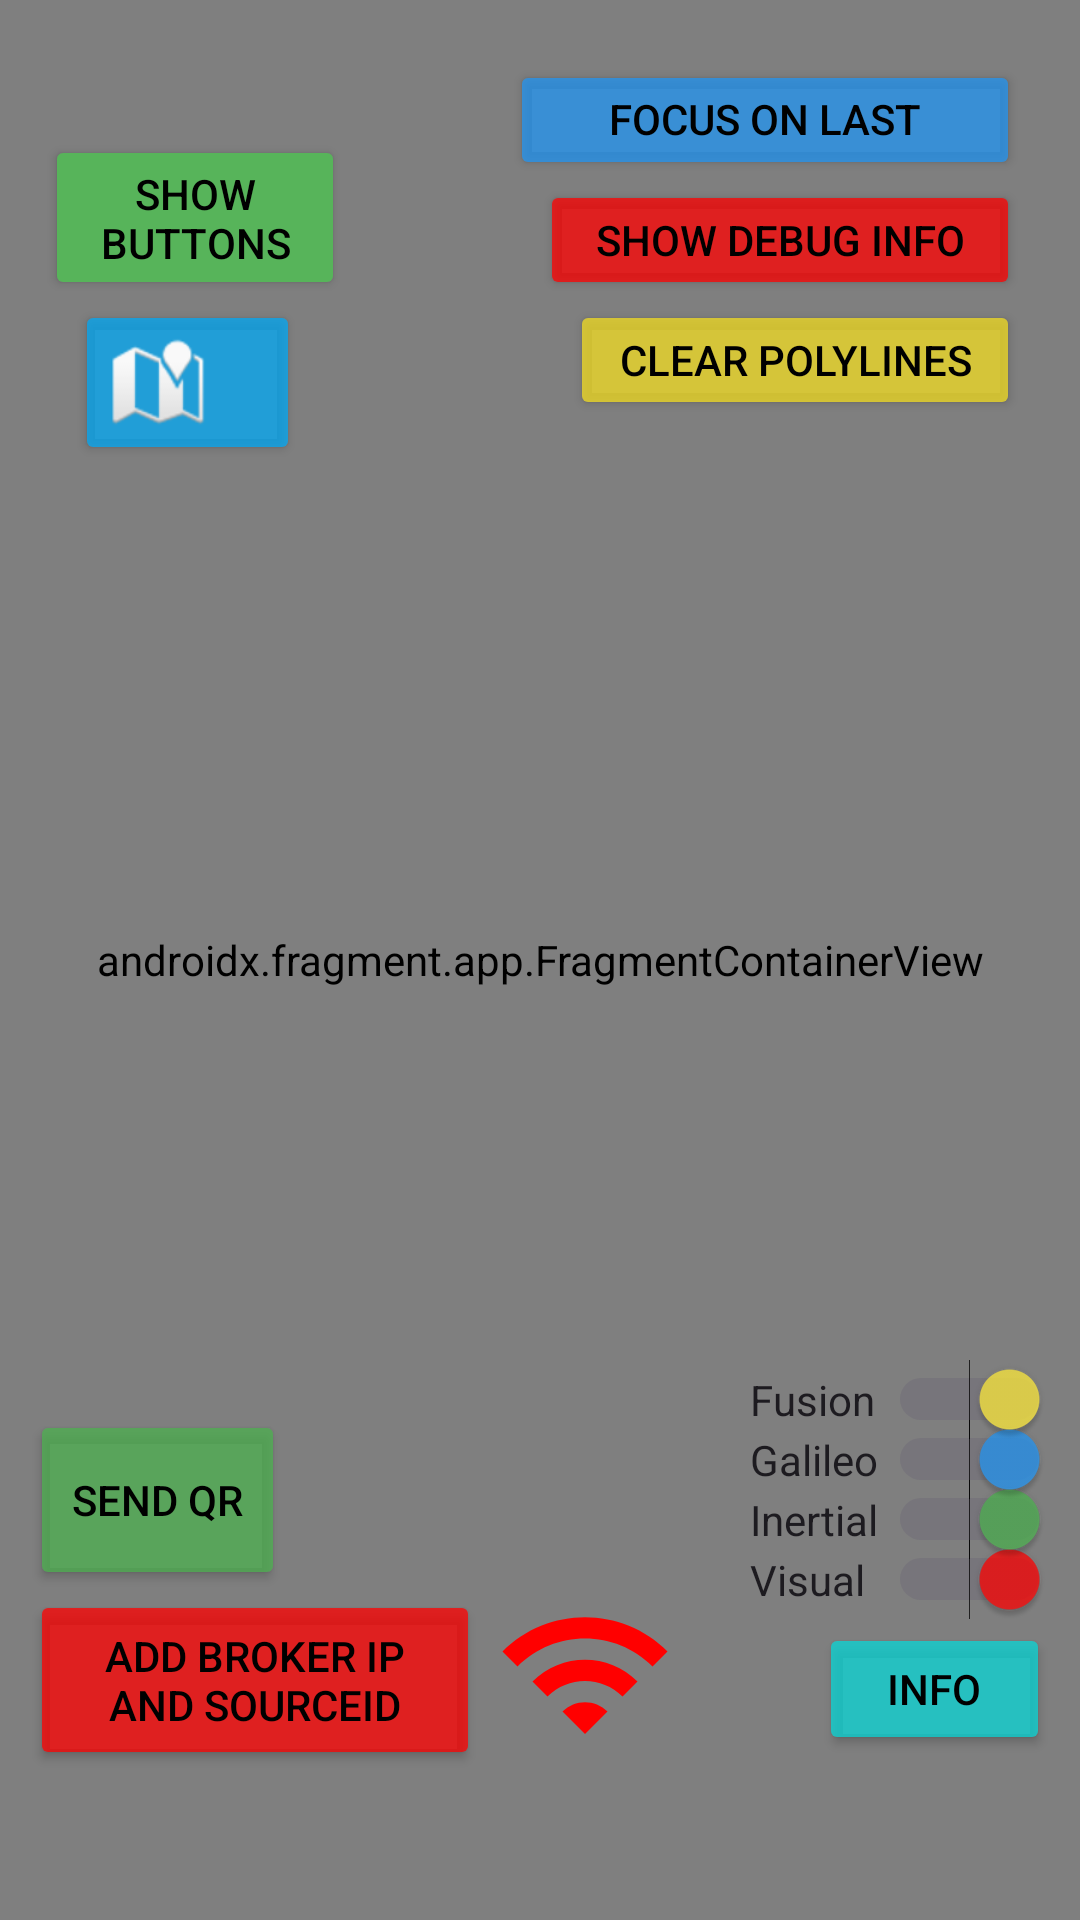

Named icons in this screenshot (1080w x 1920h) and their centers, [x,y]:
wifi: [585,1675]
